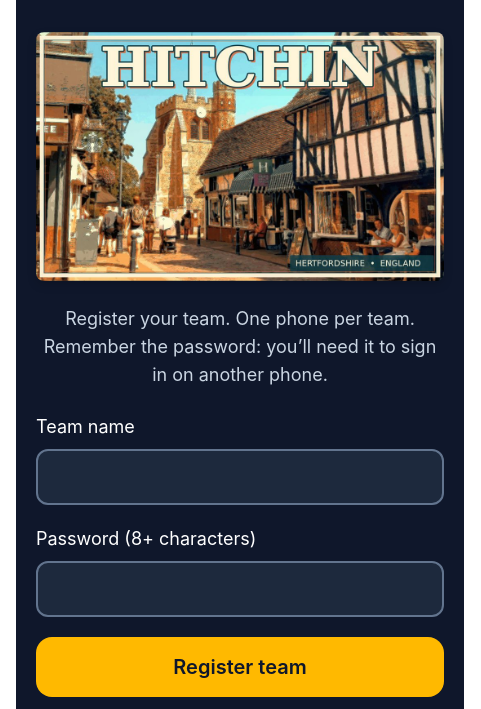
Test case: Register › says the name is taken when the password does not match
This screenshot has width=481, height=709.
Type "The Wanderers" into the field labelled "Team name" at (240, 477), box [36,449,444,505]
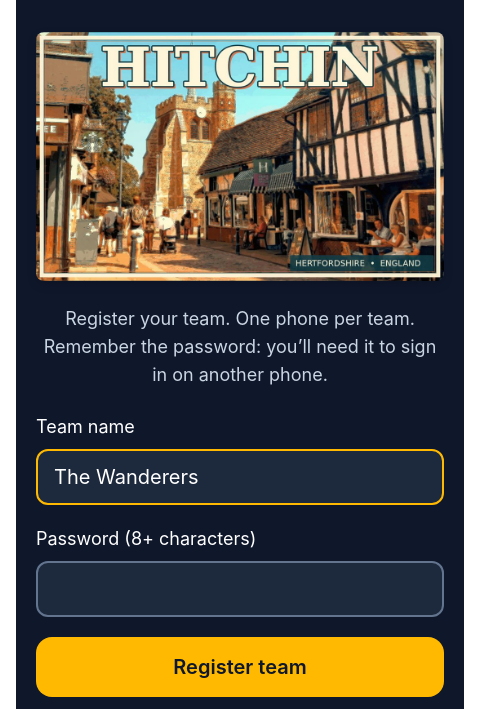
Type "password1" into the password field labelled "Password (8+ characters)" at (240, 589), box [36,561,444,617]
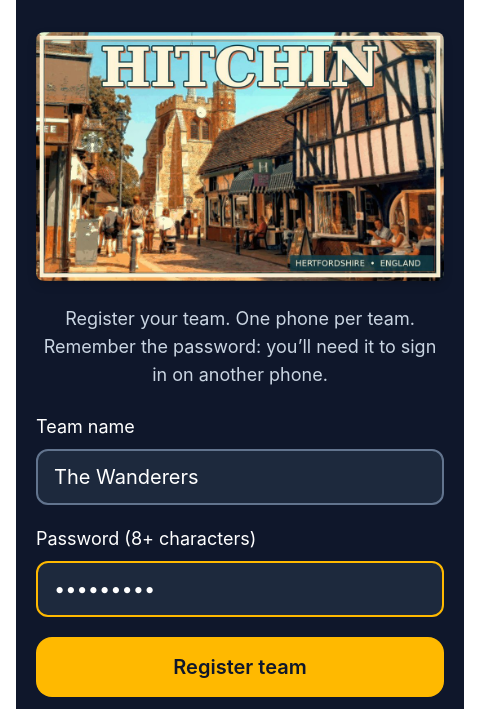
Click the button "Register team" at (240, 667), box [36,637,444,697]
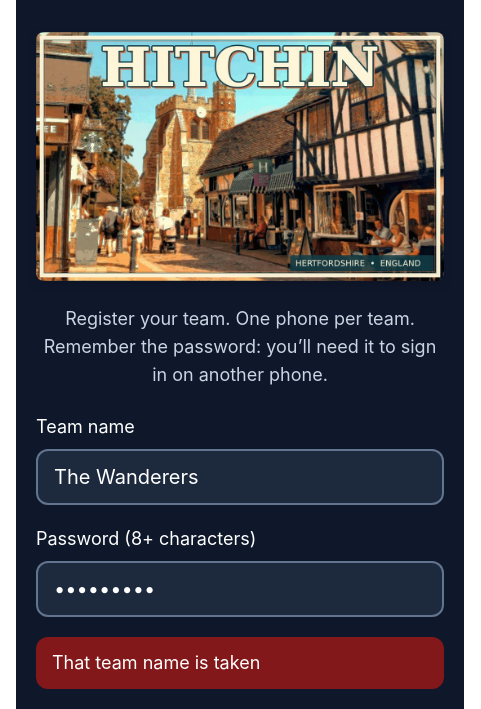
Now the message reads "That team name is taken", box [52,652,260,673]
